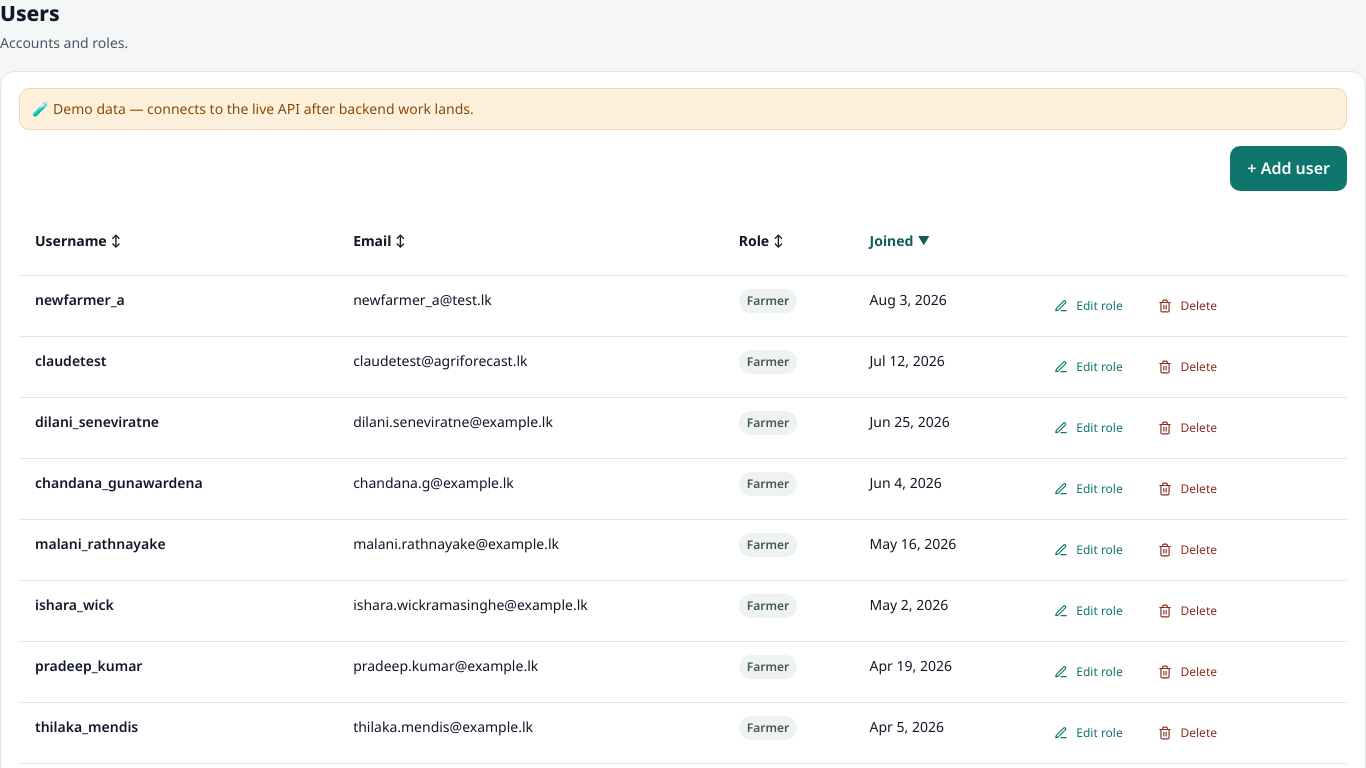
Test: UsersPage — add user › sends the chosen role when the admin picks Admin
Check: the text "claudetest" is shown, box x1=35 y1=351 x2=106 y2=370
Click the button "+ Add user". click: click(1289, 168)
box: x1=1230 y1=146 x2=1347 y2=191
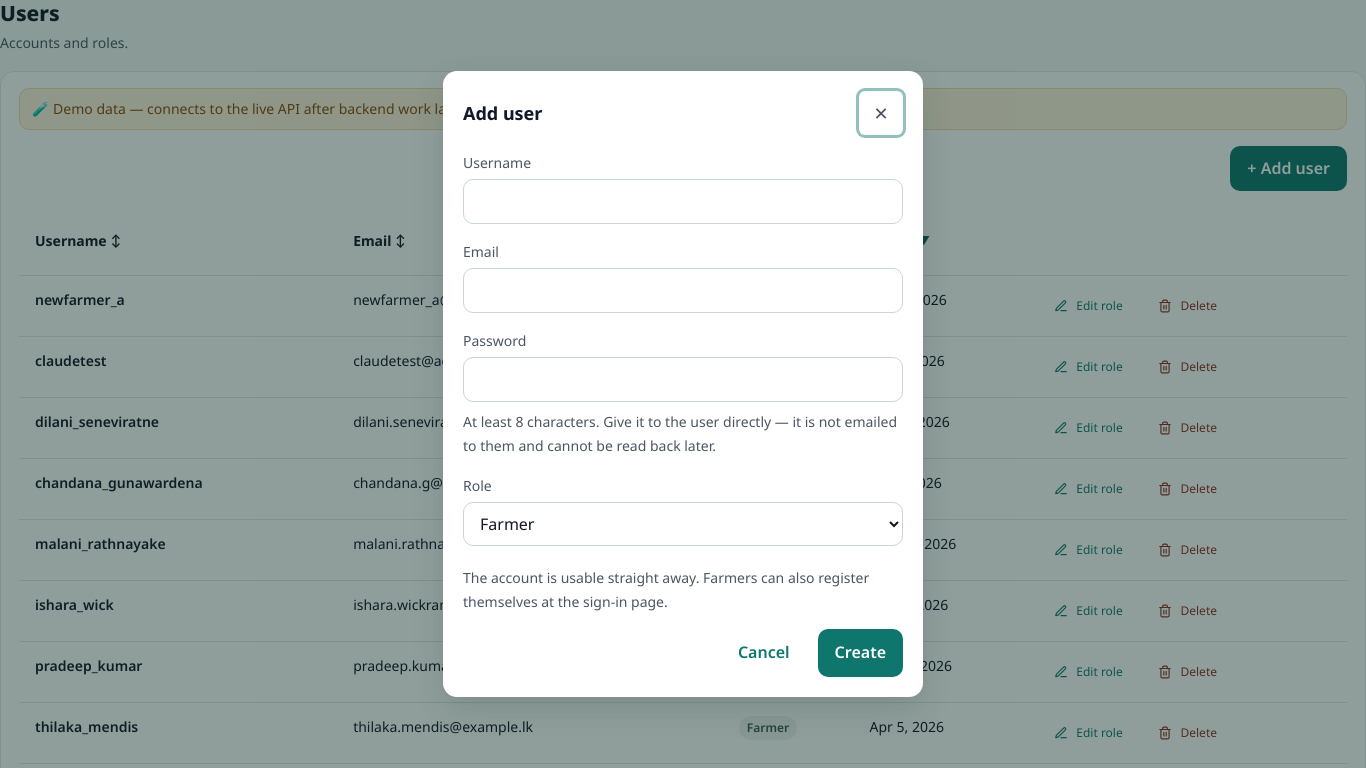
Type "newadmin_b" into the field labelled "Username". click: (683, 202)
box: x1=463 y1=179 x2=903 y2=224
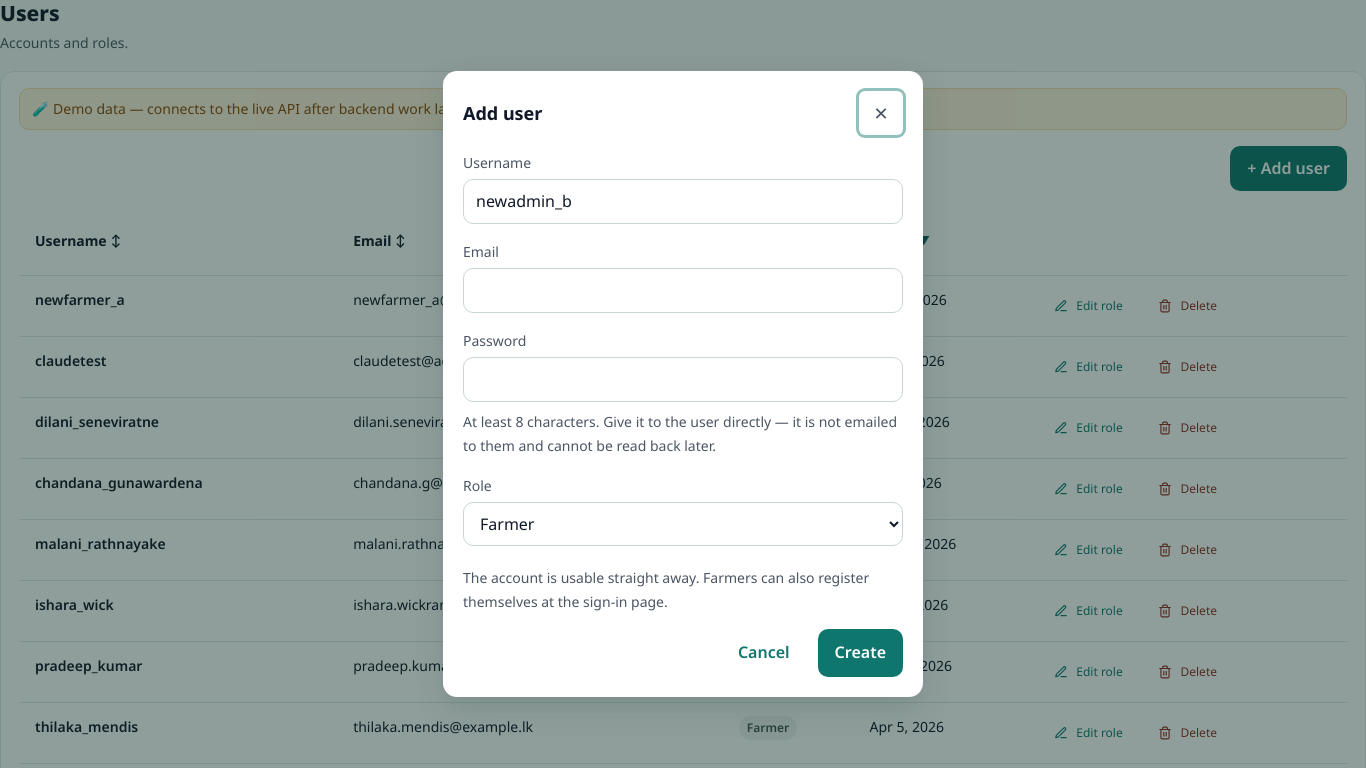
Type "newadmin_b@test.lk" into the field labelled "Email". click: (683, 291)
box: x1=463 y1=268 x2=903 y2=313
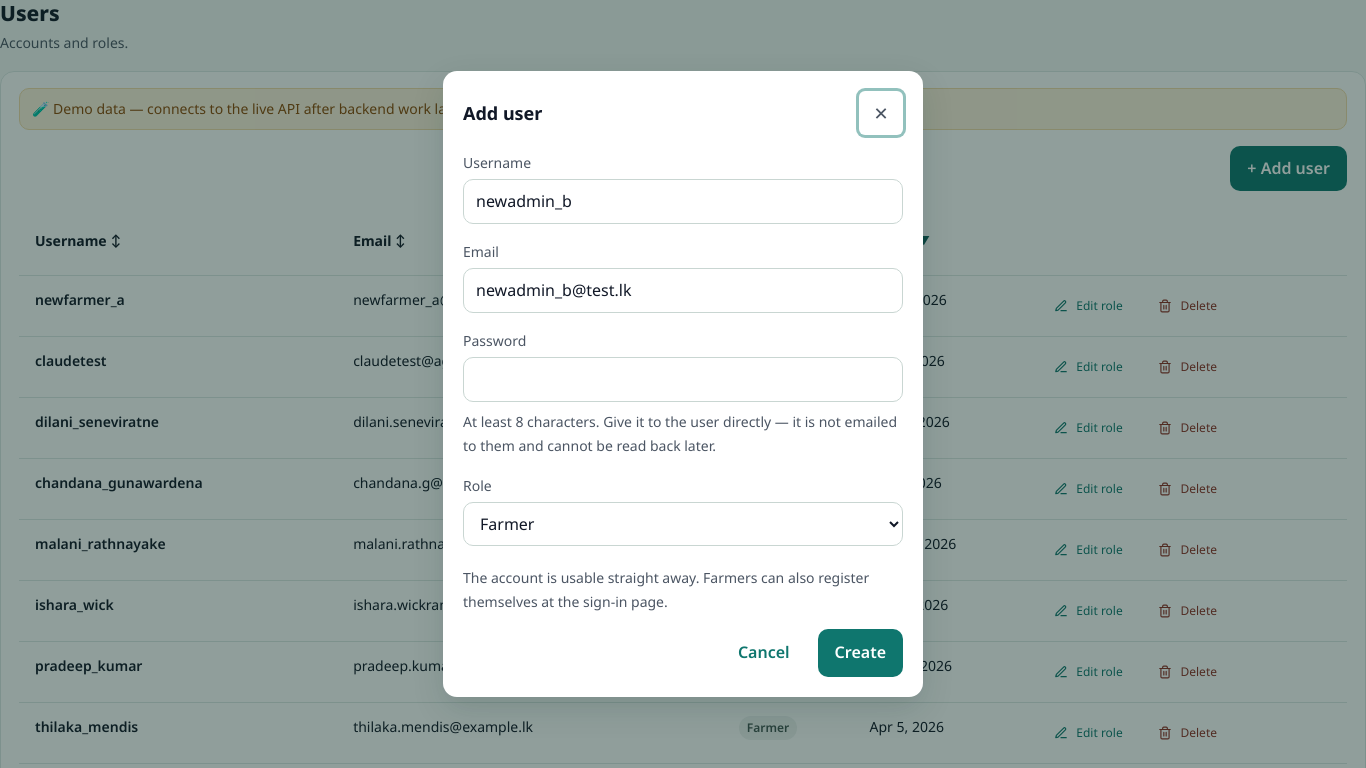
Type "correct-horse" into the password field. click: (683, 380)
box: x1=463 y1=357 x2=903 y2=402
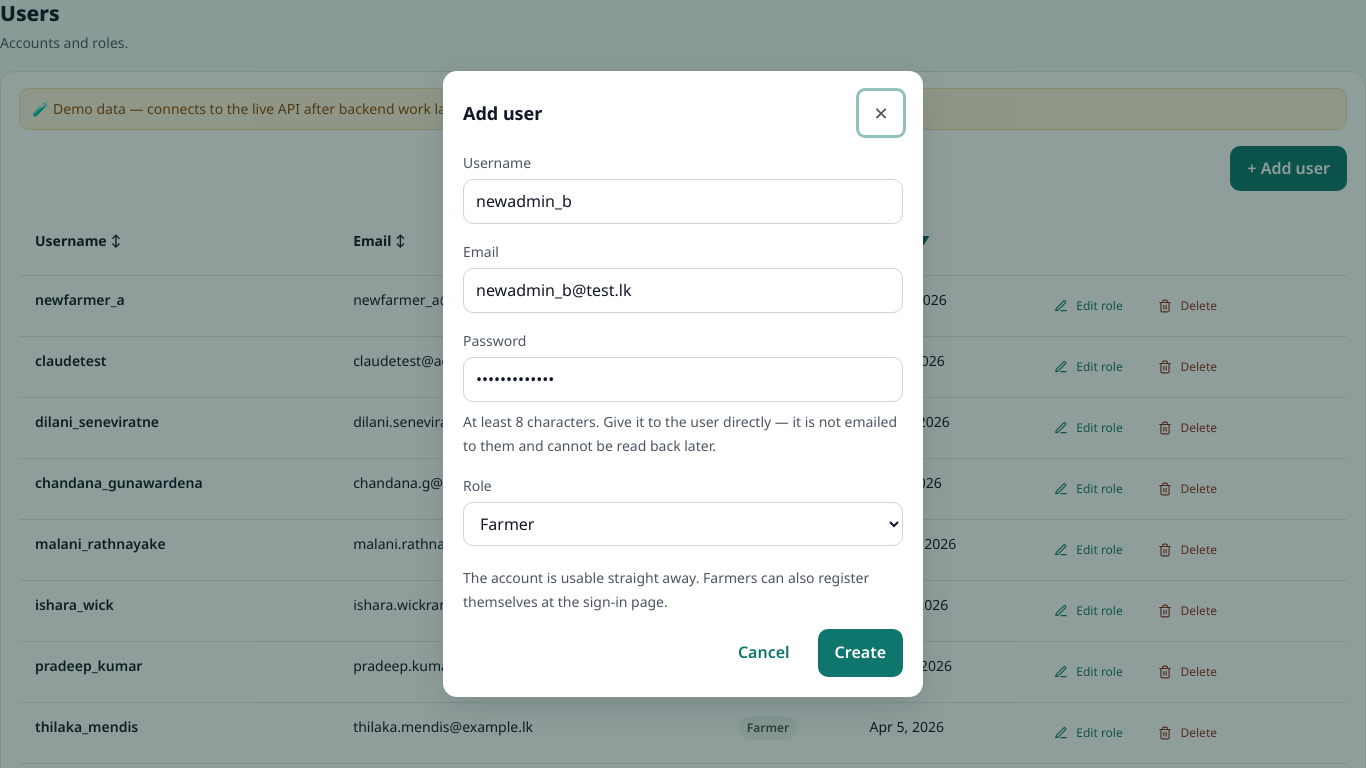
Select "Admin" in the dropdown labelled "Role". click: (683, 524)
box: x1=463 y1=502 x2=903 y2=546
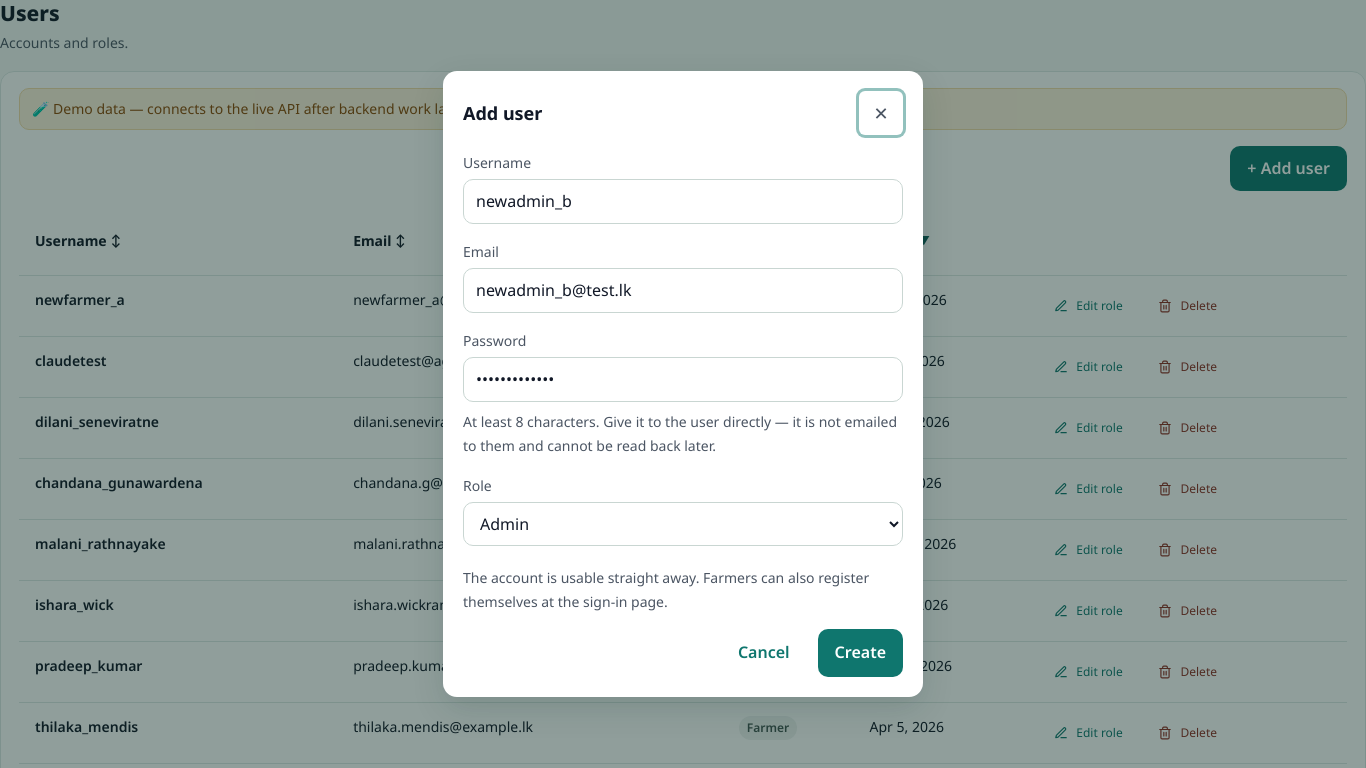
Click the button "Create". click: click(860, 653)
box: x1=818 y1=629 x2=903 y2=677
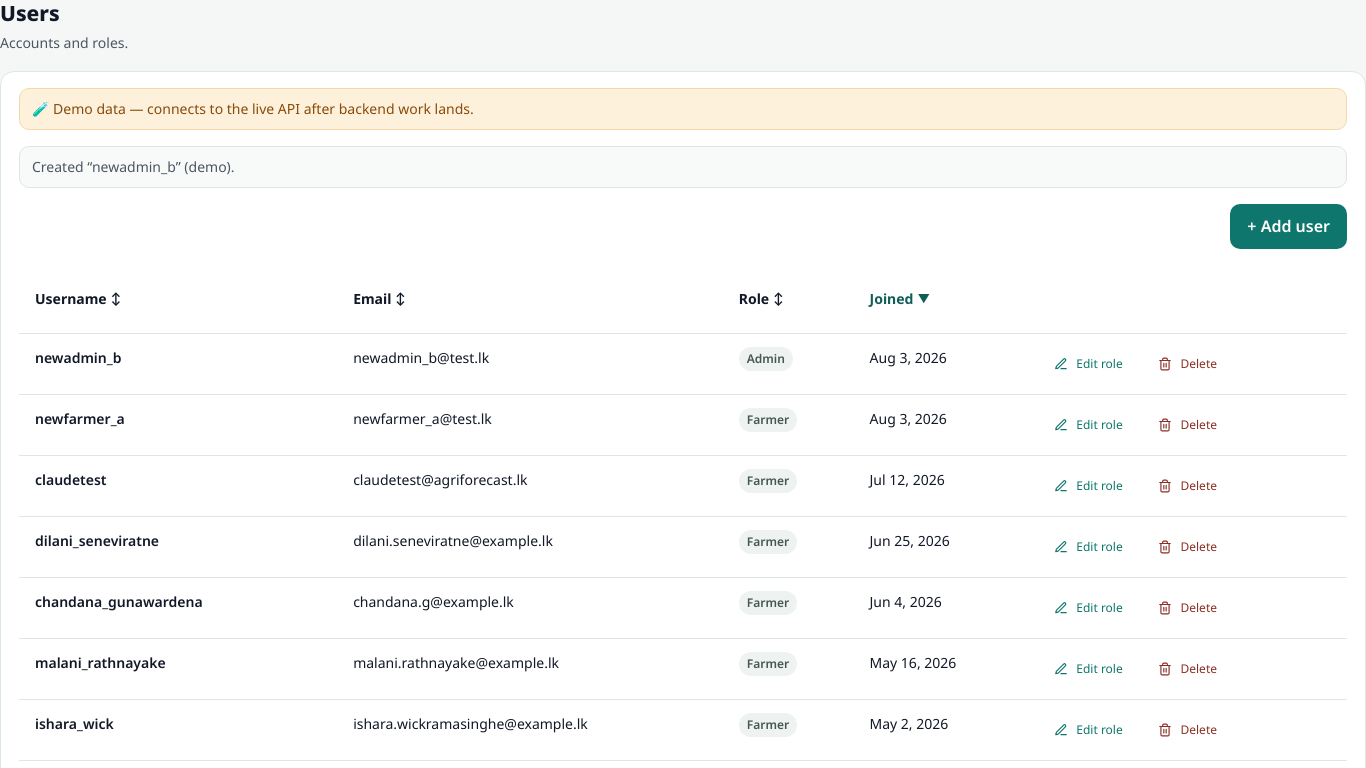
Check: the text "Admin" is shown, box x1=739 y1=347 x2=793 y2=371
